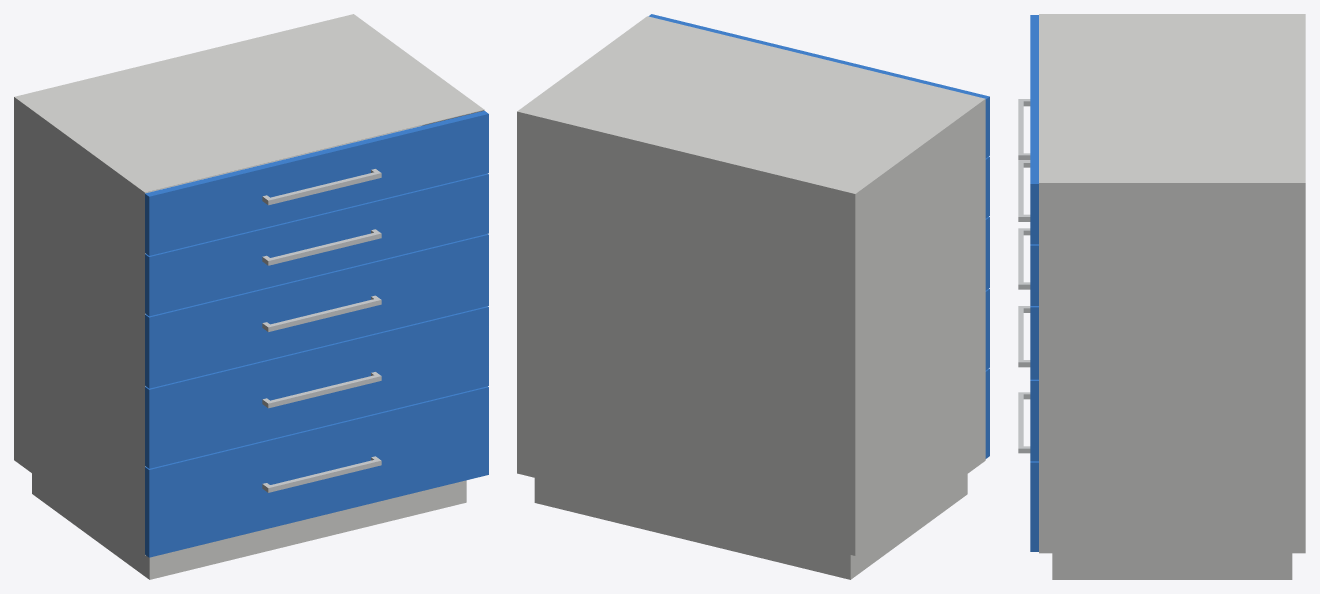
File: cabinet-tool.glb
3 renders of one model, left to right at view 1: azimuth 30°, elevation 25°; view 2: azimuth 150°, elevation 25°; view 3: azimuth 270°, elevation 25°, orthographic. The views are drawn at different scales.
Parts seen in each view (by area): view 1: body, drawer-1, drawer-2, drawer-3, drawer-5, drawer-4; view 2: body, drawer-5; view 3: body, drawer-5, drawer-1, drawer-2, drawer-3, drawer-4.
Part boxes in pixels (x1,y1,x2,y2): body: (14,14,484,579); drawer-1: (145,386,488,557); drawer-2: (145,306,488,468); drawer-3: (145,234,488,388); drawer-5: (145,110,488,255); drawer-4: (145,173,488,316); body: (517,16,985,579); drawer-5: (648,14,989,158); body: (1039,14,1305,579); drawer-5: (1018,15,1038,244); drawer-1: (1018,392,1038,551); drawer-2: (1018,306,1038,461); drawer-3: (1018,228,1038,379); drawer-4: (1018,160,1038,305).
Size of what is drawn, in the model's own units: 0.9 by 1 by 0.647.
